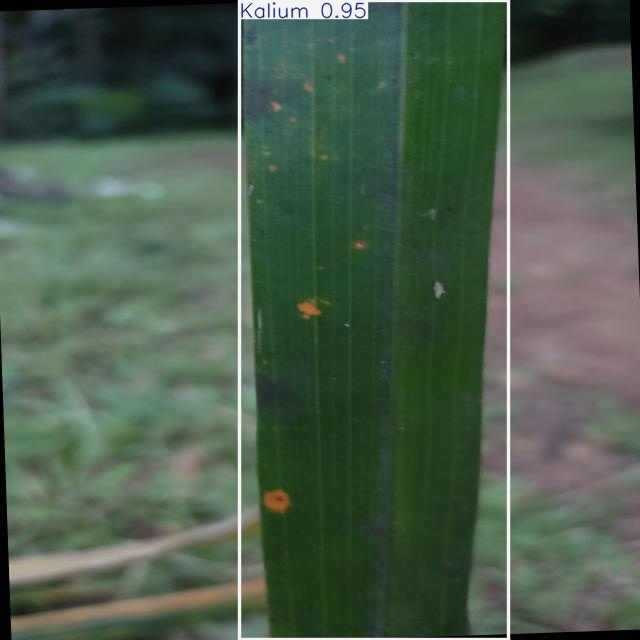Kalium: (240, 0, 509, 640)
